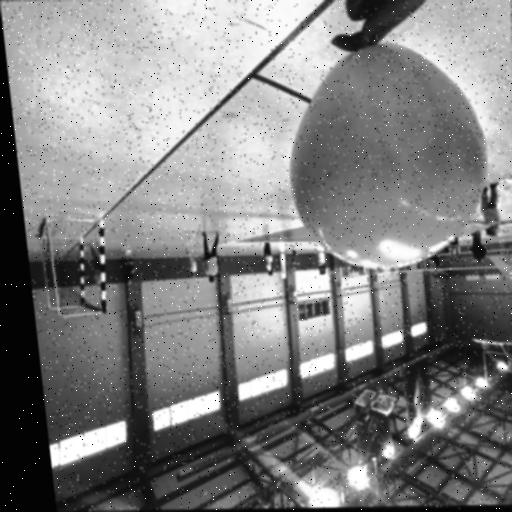balloon: (269, 40, 509, 271)
